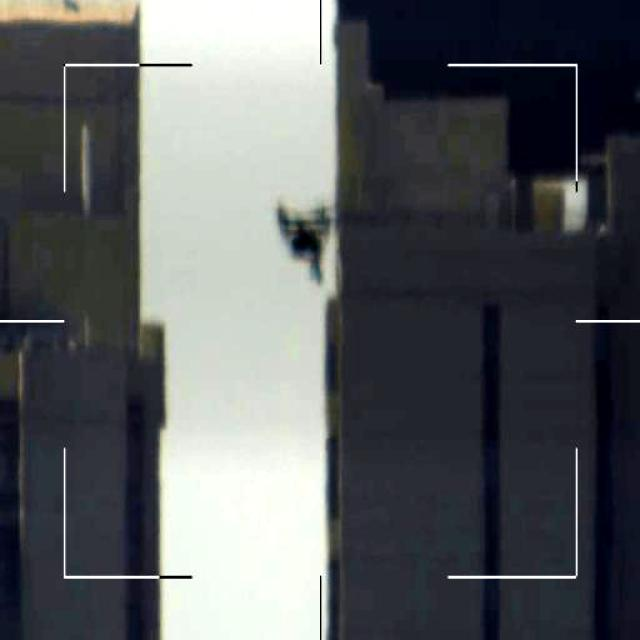bird: (269, 190, 346, 281)
